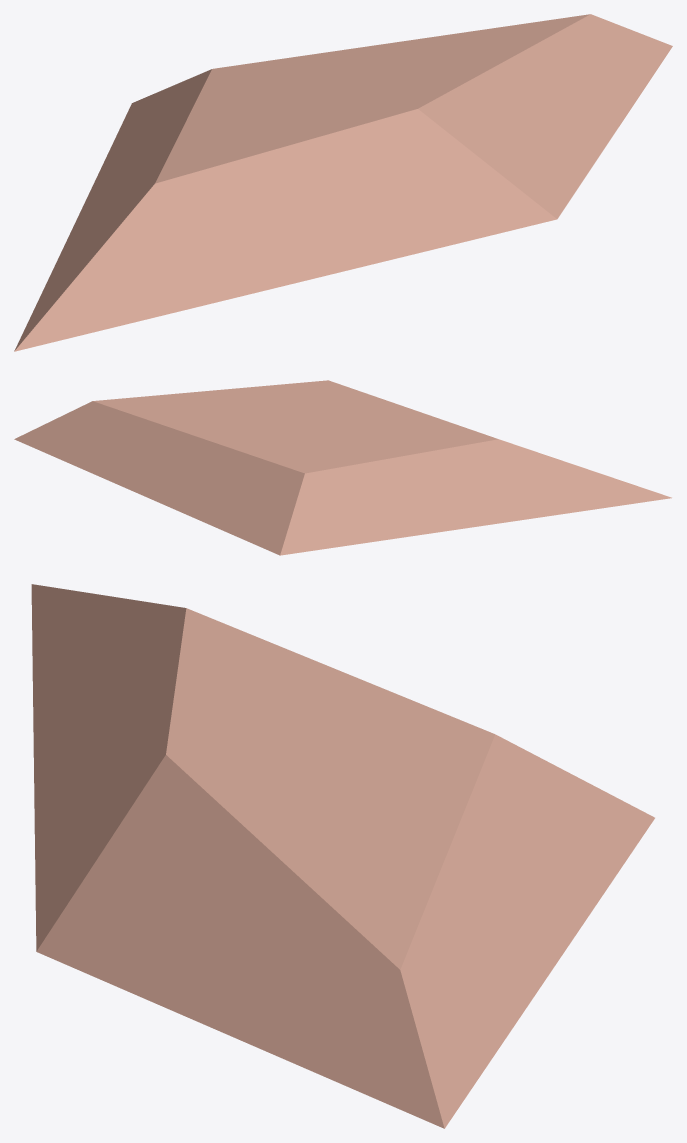
File: Rock_Mesa_Small_8.fbx
The picture shows the model from 3 angles, top to bottom: view 1: azimuth 30°, elevation 25°; view 2: azimuth 150°, elevation 25°; view 3: azimuth 270°, elevation 25°; orthographic projection. The views are drawn at different scales.
Visible parts, largest first — view 1: Rock; view 2: Rock; view 3: Rock.
Part boxes in pixels (left/top/right/bottom): Rock: left=14, top=14, right=672, bottom=351; Rock: left=14, top=380, right=671, bottom=555; Rock: left=31, top=584, right=654, bottom=1128.
Size of the model in its own units: 34.69 by 4.04 by 16.86.
